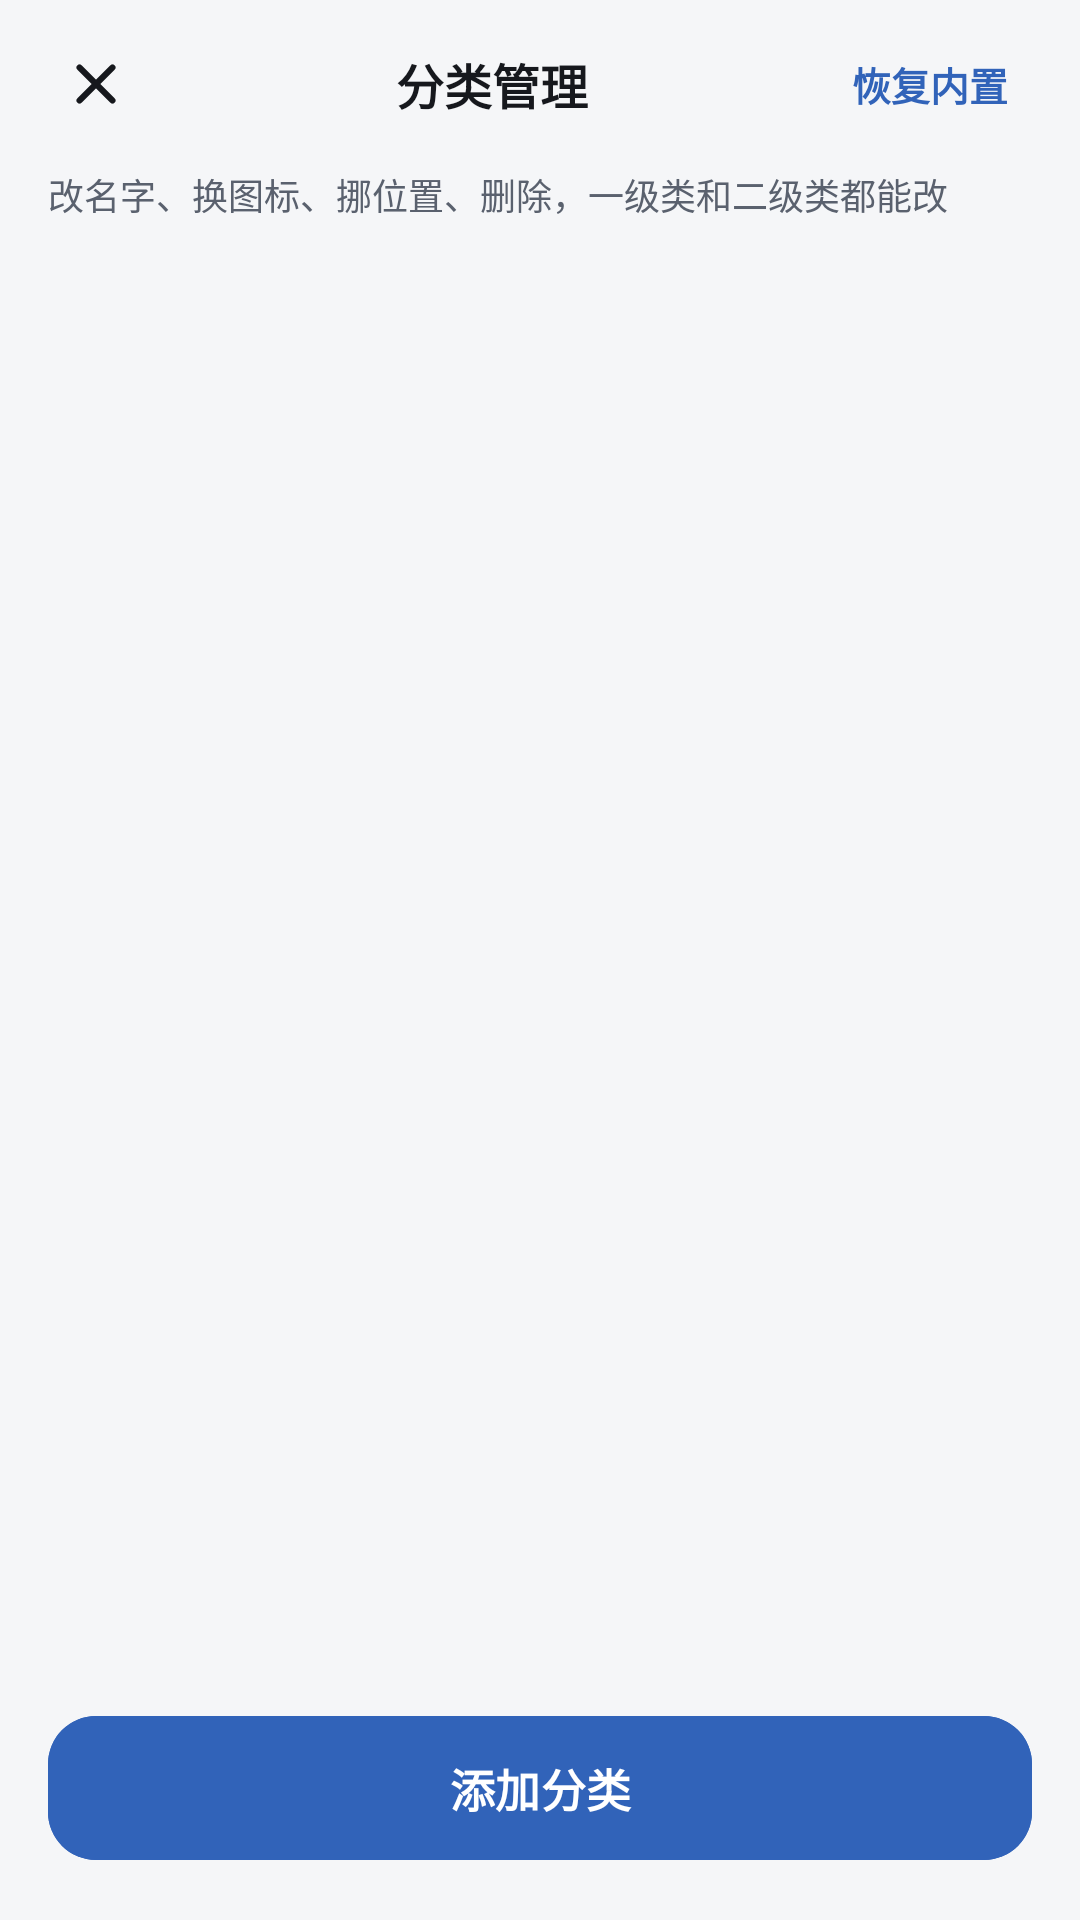

Where icons sit on this 1080px x 1920px app screen, as (x1, y1, x2, y2):
关闭: (76, 64, 116, 104)
